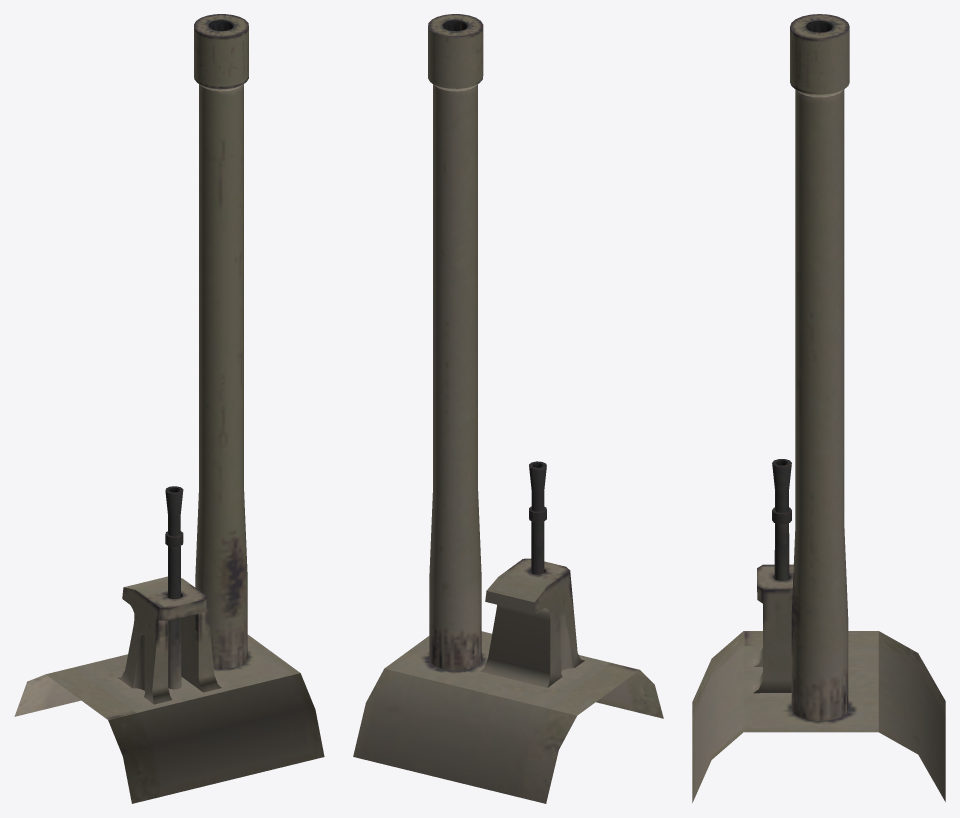
Rendered from Gun_05.glb.
The picture shows the model from 3 angles, left to right: view 1: azimuth 30°, elevation 25°; view 2: azimuth 150°, elevation 25°; view 3: azimuth 270°, elevation 25°; orthographic projection. The views are drawn at different scales.
Visible parts, largest first — view 1: set_0_group_0; view 2: set_0_group_0; view 3: set_0_group_0.
Boxes of the visible parts, x1,y1,x2,y2 form: set_0_group_0: (14, 14, 324, 803); set_0_group_0: (353, 14, 663, 803); set_0_group_0: (692, 14, 945, 802).
Size of the model in its own units: 0.5352 by 1.86 by 0.5654.
1 material, 1 textured.
